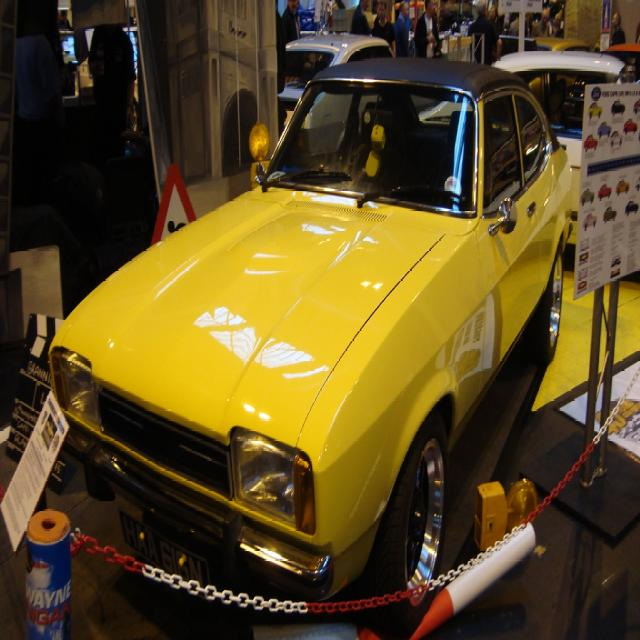car: (46, 54, 584, 604), (624, 197, 639, 216), (601, 203, 617, 220), (587, 99, 602, 117), (596, 118, 611, 136), (597, 179, 612, 197), (610, 97, 626, 113), (583, 210, 596, 229), (579, 186, 594, 202), (607, 127, 621, 142), (615, 179, 629, 194), (622, 117, 637, 131), (583, 135, 597, 147)
